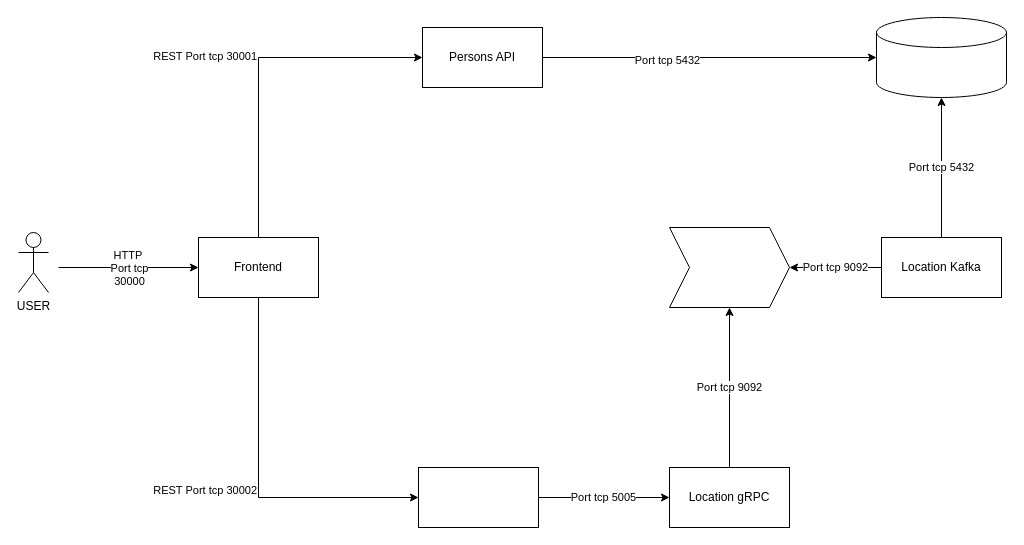
Image size: 1024x545. Some labels were removed from this diagram. Here are the shapes that lost their labels. From the top down, the centre of each, then its label:
(x=941, y=57): Postgres Service
(x=729, y=267): Kafka Service
(x=478, y=497): Location API
